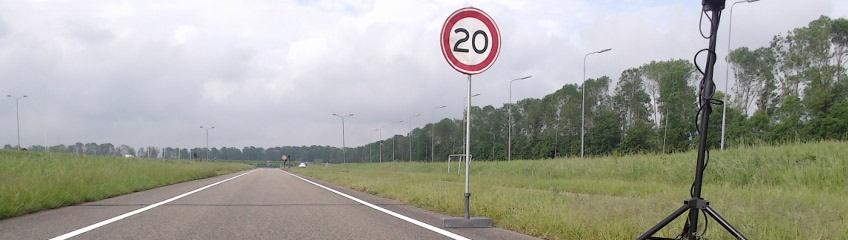Speed-limit-20km-h-: (440, 7, 501, 75)
